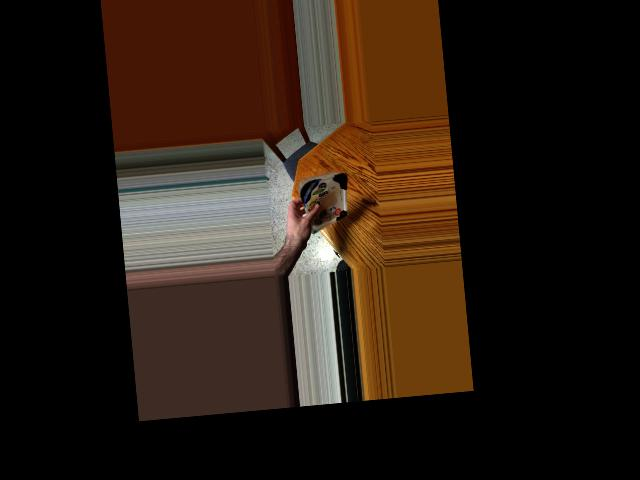cheese: (295, 167, 348, 223)
